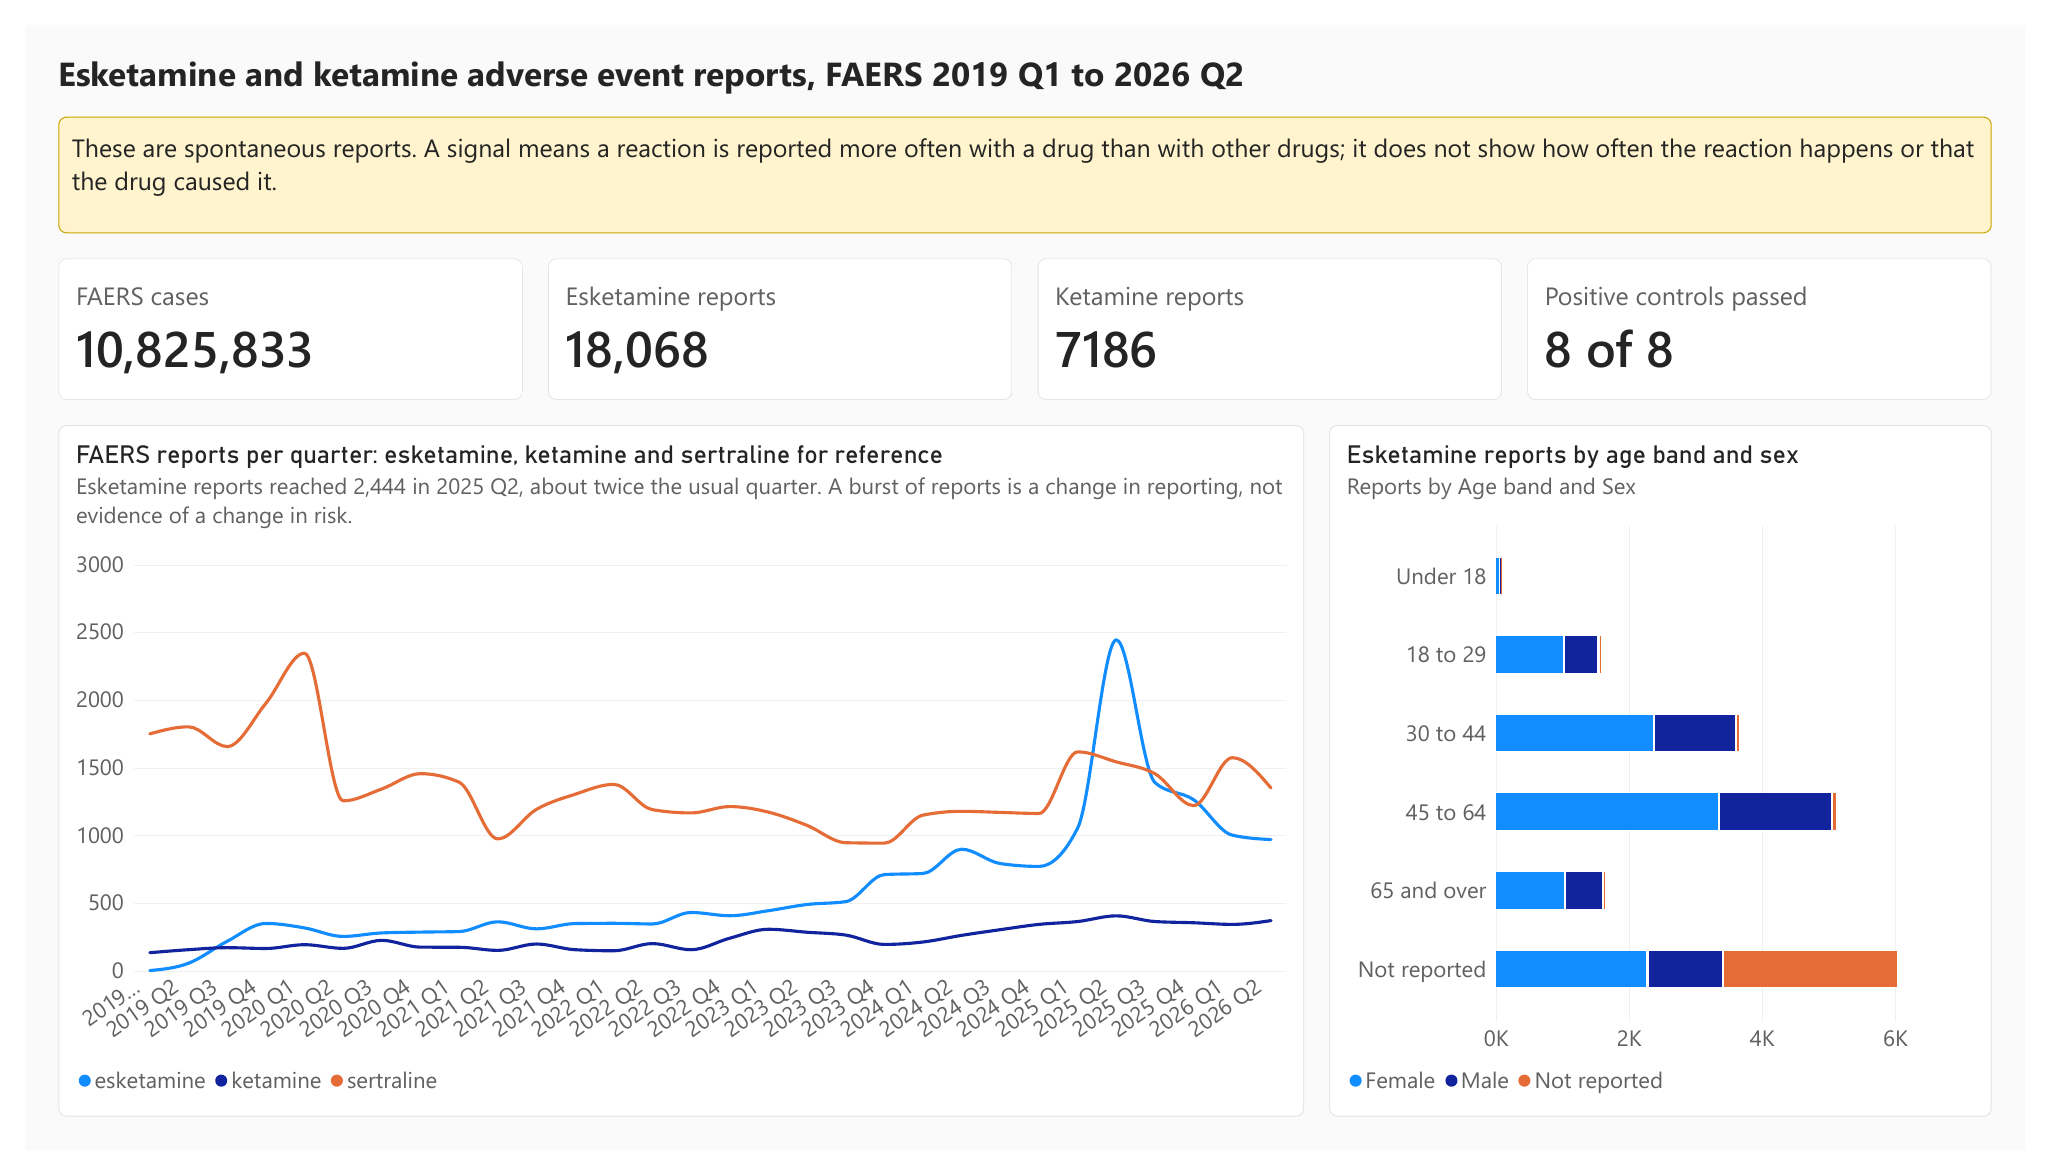

This screenshot's page, from the dashboard's own definition file:
{"tool":"powerbi","page":{"name":"Overview","canvas":[1920,1080],"ordinal":0},"visuals":[{"type":"textbox","box":[32,24,1856,64],"z":0},{"type":"textbox","box":[32,88,1856,112],"z":1000},{"type":"cardVisual","fields":{"Data":["_Measures.FAERS cases"]},"box":[32,224,446,136],"z":2000},{"type":"cardVisual","fields":{"Data":["_Measures.Esketamine reports"]},"box":[502,224,446,136],"z":3000},{"type":"cardVisual","fields":{"Data":["_Measures.Ketamine reports"]},"box":[972,224,446,136],"z":4000},{"type":"cardVisual","fields":{"Data":["_Measures.Positive controls passed"]},"box":[1442,224,446,136],"z":5000},{"type":"lineChart","title":"FAERS reports per quarter: esketamine, ketamine and sertraline for reference","fields":{"Category":["Date.Year quarter"],"Series":["Drug.drug"],"Y":["_Measures.Reports"]},"box":[32,384,1196,664],"z":6000},{"type":"barChart","title":"Esketamine reports by age band and sex","fields":{"Category":["Demographics.age_band"],"Series":["Demographics.sex"],"Y":["Sum(Demographics.reports)"]},"box":[1252,384,636,664],"z":7000}]}

Visuals, with their boxes in screenshot pixels (x1, y1, x2, y2), scaled from the page's 1920x1080 canvas onto the 2050x1175 screenshot:
textbox: (34, 26, 2016, 96)
textbox: (34, 96, 2016, 218)
cardVisual - _Measures.FAERS cases: (34, 244, 510, 392)
cardVisual - _Measures.Esketamine reports: (536, 244, 1012, 392)
cardVisual - _Measures.Ketamine reports: (1038, 244, 1514, 392)
cardVisual - _Measures.Positive controls passed: (1540, 244, 2016, 392)
"FAERS reports per quarter: esketamine, ketamine and sertraline for reference" lineChart: (34, 418, 1311, 1140)
"Esketamine reports by age band and sex" barChart: (1337, 418, 2016, 1140)
